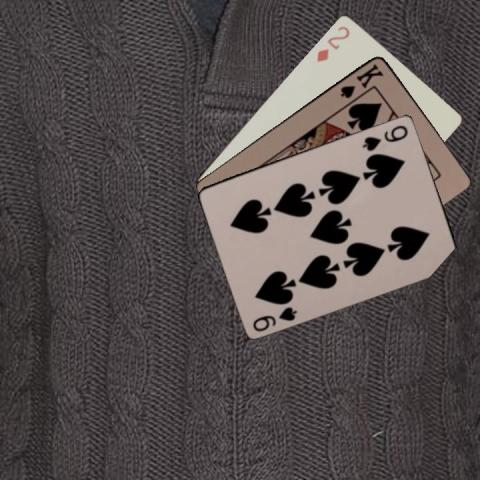2d: (314, 22, 352, 63)
9s: (360, 121, 410, 152), (250, 302, 299, 332)
Ks: (337, 60, 385, 100)
